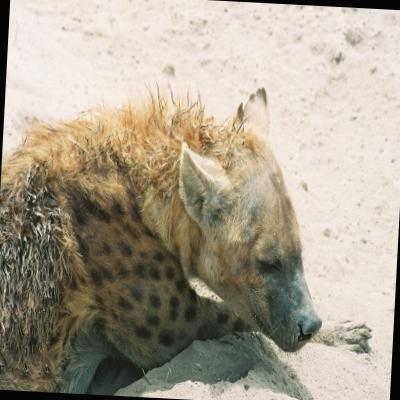hyenas: (0, 57, 373, 400)
